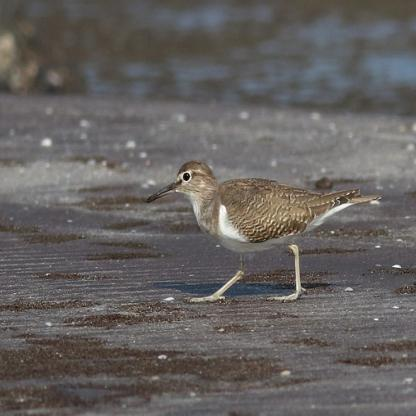Burung: (146, 153, 382, 301)
